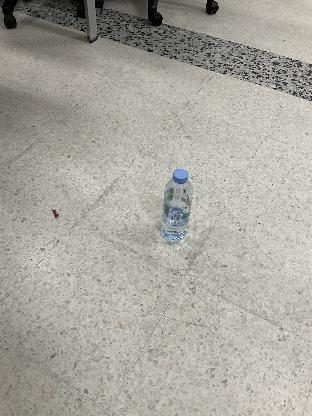Plastic Bottle: (161, 170, 193, 246)
